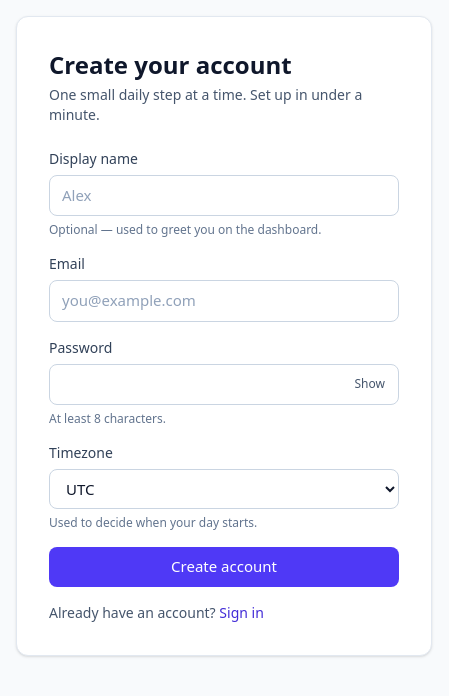
SignUp validation › maps a 409 duplicate-email response to the email field
Type "taken@example.com" into the field labelled "Email".
click(224, 301); type("taken@example.com")  # box [49,280,399,322]
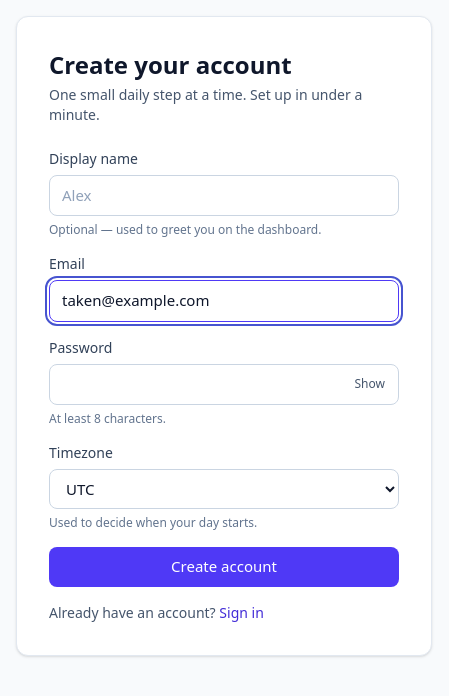
Type "longenough1" into the password field labelled "Password".
click(224, 384); type("longenough1")  # box [49,364,399,405]
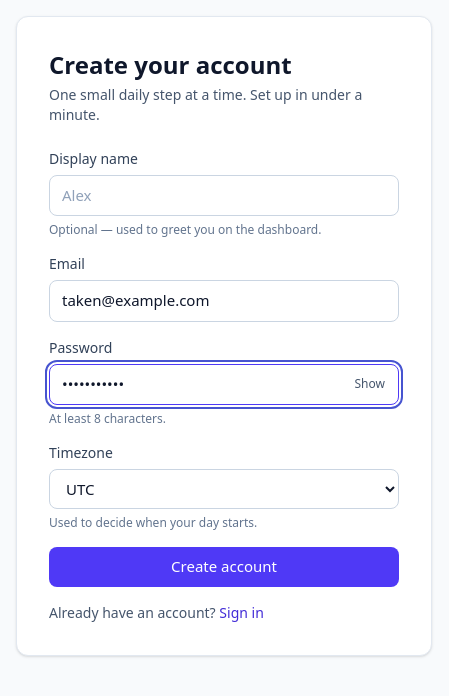
Click the button "Create account".
click(224, 567)  # box [49,547,399,587]
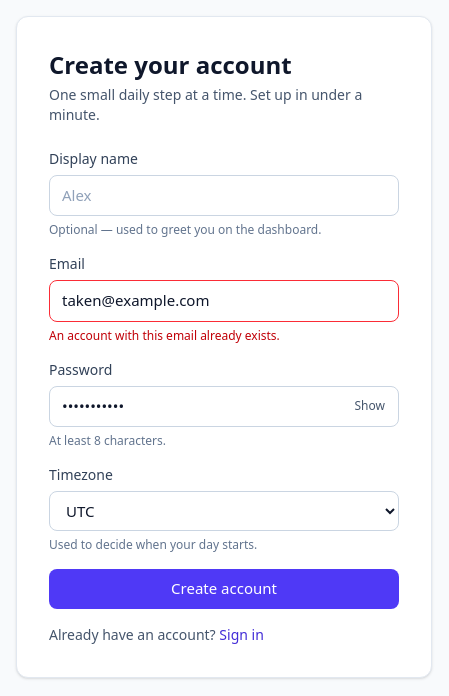
Now the text "An account with this email already exists." is shown, box [49,326,280,344]
